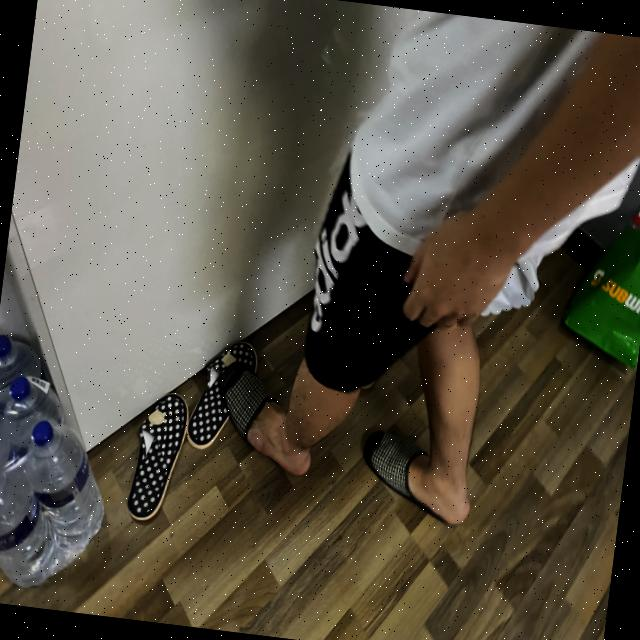no-boots: (203, 363, 323, 506), (355, 424, 485, 544)
